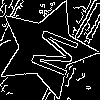M: (21, 23, 80, 79)
